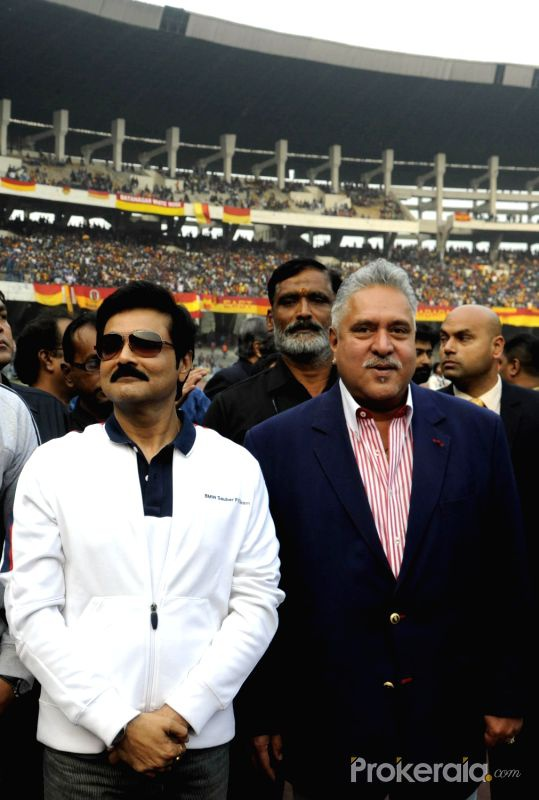bad: (335, 305, 424, 395), (86, 315, 175, 405), (270, 279, 345, 354), (419, 312, 494, 387)
